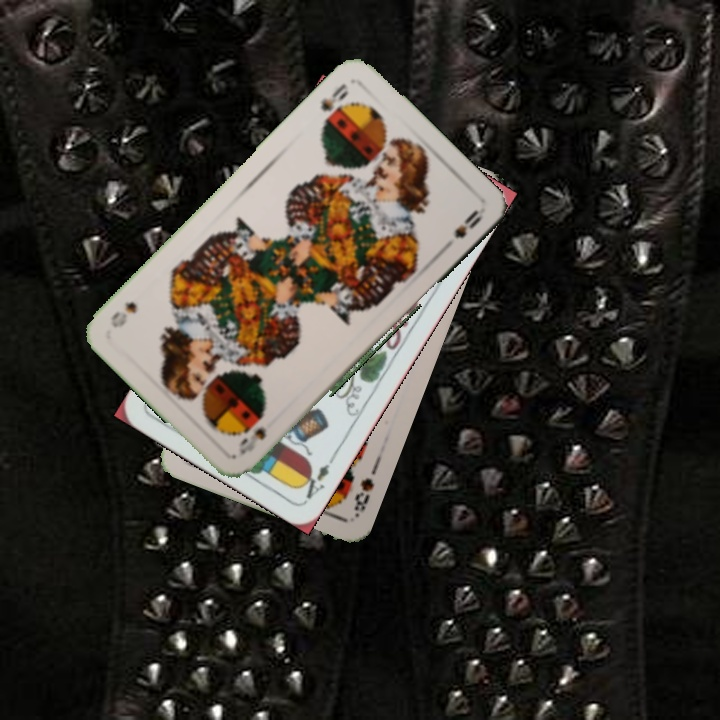EA: (296, 450, 339, 502)
S8: (350, 473, 377, 520)
SO: (316, 79, 352, 127), (234, 423, 269, 457)
